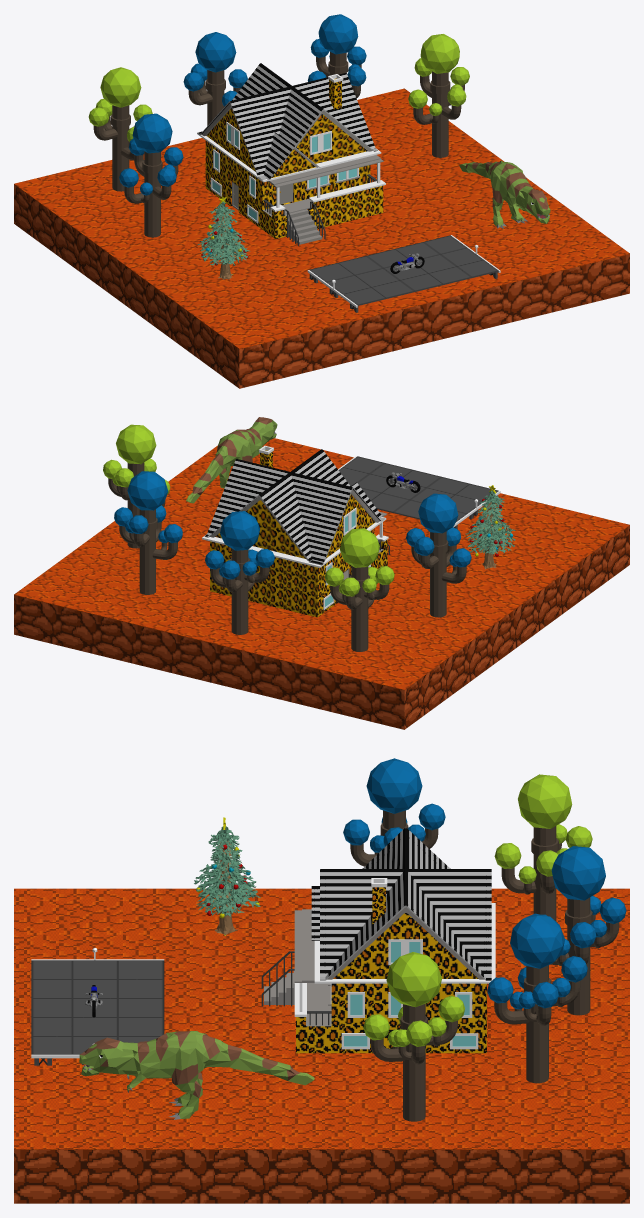
3 renders of one model, top to bottom at view 1: azimuth 30°, elevation 25°; view 2: azimuth 150°, elevation 25°; view 3: azimuth 270°, elevation 25°, orthographic. The views are drawn at different scales.
Visible parts, largest first — view 1: Cube.001, Cube.637, ANIMAL_TREX, OBJRANDOM_CHRISTMAS_TREE; view 2: Cube.001, Cube.637, ANIMAL_TREX, OBJRANDOM_CHRISTMAS_TREE; view 3: Cube.001, Cube.637, ANIMAL_TREX, OBJRANDOM_CHRISTMAS_TREE.
Boxes of the visible parts, x1,y1,x2,y2 form: Cube.001: (14,14,629,388); Cube.637: (197,63,385,245); ANIMAL_TREX: (459,161,550,228); OBJRANDOM_CHRISTMAS_TREE: (197,196,250,279); Cube.001: (14,424,629,729); Cube.637: (202,445,389,617); ANIMAL_TREX: (186,417,277,503); OBJRANDOM_CHRISTMAS_TREE: (465,485,515,569); Cube.001: (14,758,629,1203); Cube.637: (261,828,495,1053); ANIMAL_TREX: (79,1031,314,1119); OBJRANDOM_CHRISTMAS_TREE: (194,817,260,935).
Size of the model in its own units: 4000 by 1663 by 4000.
34 materials, 5 textured.
